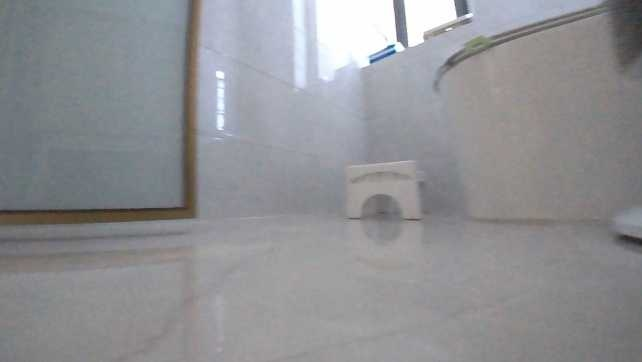door_anno: (0, 0, 201, 230)
toilet: (431, 1, 641, 229)
